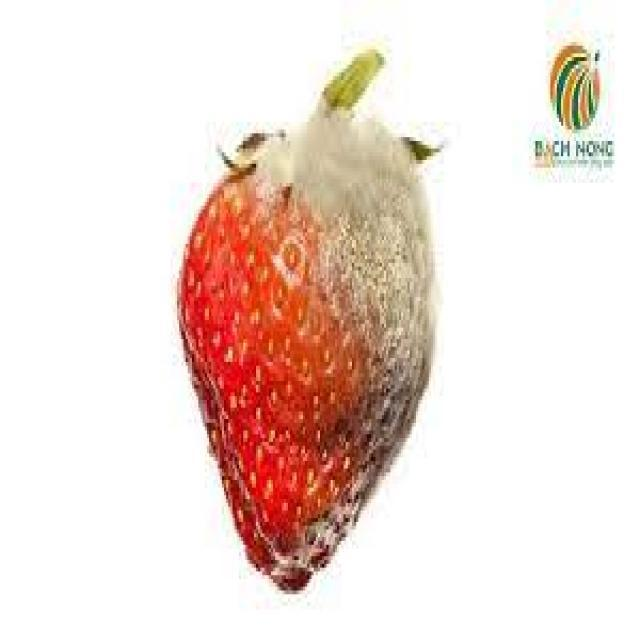Moho gris: (151, 72, 444, 600)
